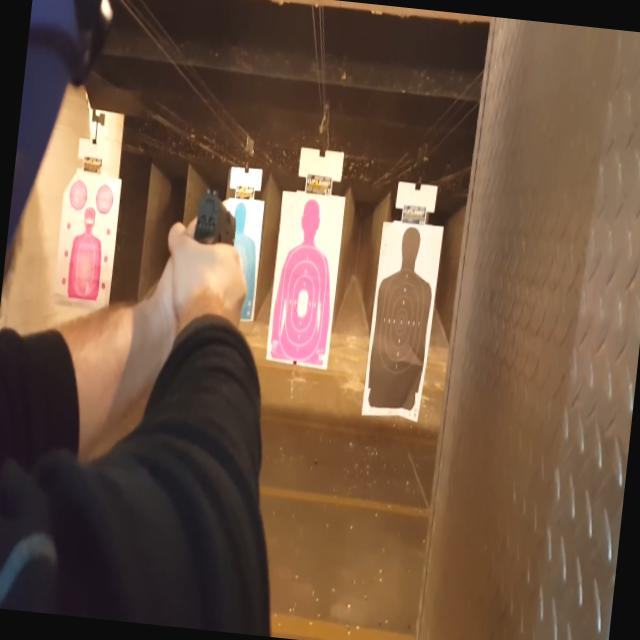handgun: (172, 180, 248, 344)
